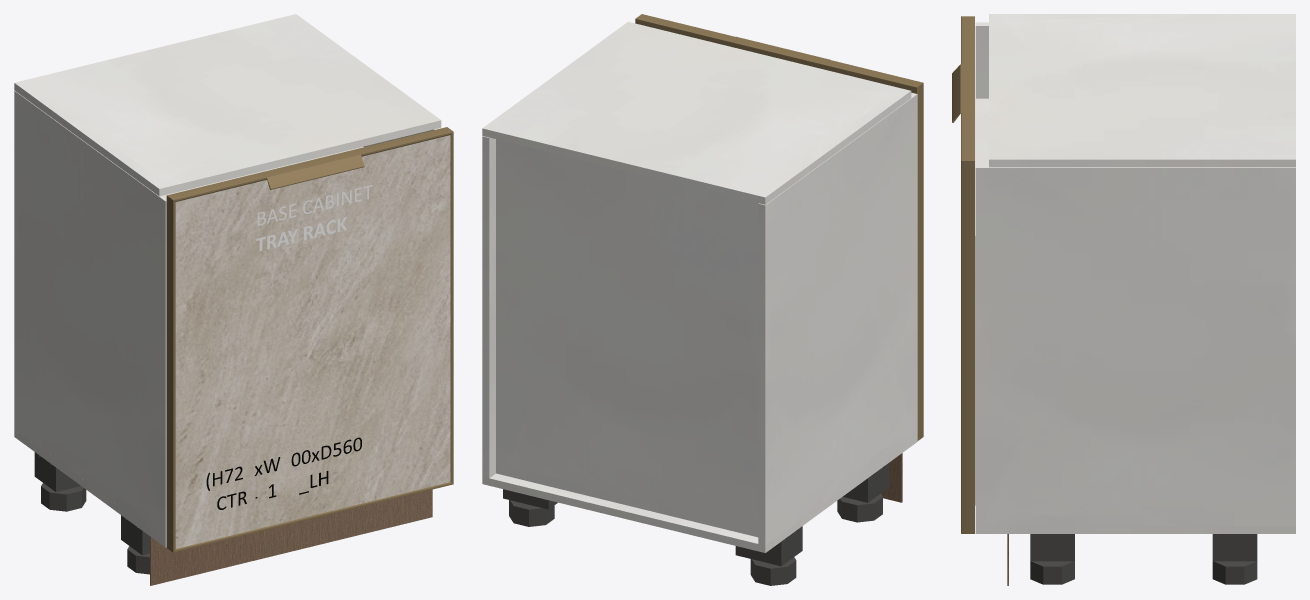
The model's file is BC-AC-TTS-ST-TR-LHS-XXX-600-720-560-15.glb.
3 views of the same model, side by side, from view 1: azimuth 30°, elevation 25°; view 2: azimuth 150°, elevation 25°; view 3: azimuth 270°, elevation 25° (orthographic). The views are drawn at different scales.
Parts seen in each view (by area): view 1: Object_node_11, TP_node, TP_node_1, Object_node_13, Extrusion_node_4, ExtrSplGeo, Extrusion_node, Extrusion_node_2, 2D text, 2D text_node, TP, Extrusion_node_3 (+3 smaller); view 2: TP_node_9, TP_node, TP_node_1, TP, TP_node_0, Extrusion_node_4, Extrusion_node, ExtrSplGeo, Plate, Foot, Foot_node_0, Foot_node (+2 smaller); view 3: TP_node_0, TP_node_1, Extrusion_node_2, TP, Extrusion_node, Plate_node, Plate_node_1, ExtrSplGeo, TP_node, Foot_node, TP_node_8, Foot_node_1.
Boxes of the visible parts, <box> form: Object_node_11: <box>175,135,450,548</box>; TP_node: <box>14,90,166,540</box>; TP_node_1: <box>14,14,441,196</box>; Object_node_13: <box>150,489,432,585</box>; Extrusion_node_4: <box>166,196,175,552</box>; ExtrSplGeo: <box>260,150,364,189</box>; Extrusion_node: <box>167,127,453,201</box>; Extrusion_node_2: <box>450,132,453,483</box>; 2D text: <box>256,185,372,250</box>; 2D text_node: <box>206,437,361,509</box>; TP: <box>14,430,166,547</box>; Extrusion_node_3: <box>173,482,453,552</box>; TP_node_9: <box>496,139,758,537</box>; TP_node: <box>758,92,917,545</box>; TP_node_1: <box>482,21,911,204</box>; TP: <box>482,434,917,552</box>; TP_node_0: <box>482,136,495,478</box>; Extrusion_node_4: <box>911,83,923,440</box>; Extrusion_node: <box>635,14,923,91</box>; ExtrSplGeo: <box>729,36,830,68</box>; Plate: <box>735,526,802,566</box>; Foot: <box>750,557,796,585</box>; Foot_node_0: <box>837,494,882,522</box>; Foot_node: <box>509,500,554,526</box>; TP_node_0: <box>975,164,1295,526</box>; TP_node_1: <box>989,14,1295,167</box>; Extrusion_node_2: <box>961,161,974,533</box>; TP: <box>975,526,1295,533</box>; Extrusion_node: <box>961,16,974,160</box>; Plate_node: <box>1212,534,1257,561</box>; Plate_node_1: <box>1030,534,1074,561</box>; ExtrSplGeo: <box>952,64,974,122</box>; TP_node: <box>975,22,988,98</box>; Foot_node: <box>1212,561,1257,584</box>; TP_node_8: <box>975,98,988,243</box>; Foot_node_1: <box>1030,561,1074,584</box>.
Size of what is drawn, in the model's own units: 0.6 by 0.82 by 0.5992.
8 materials, 3 textured.
